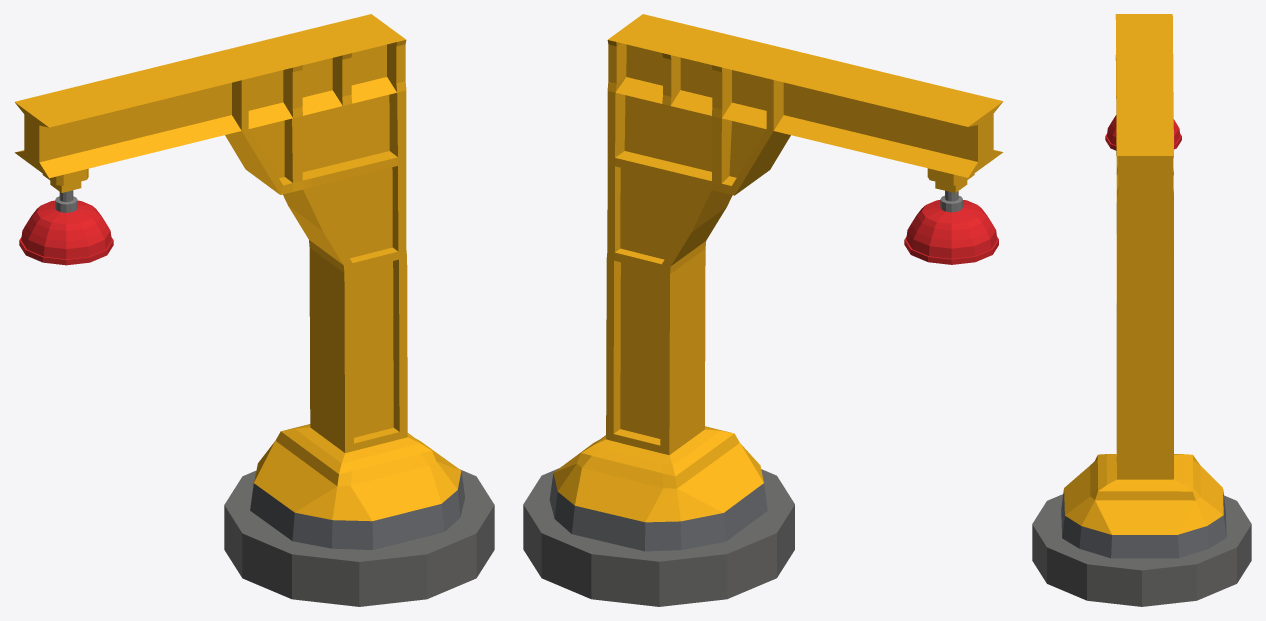
The model's file is CraneWithPlunger.fbx.
3 renders of one model, left to right at view 1: azimuth 30°, elevation 25°; view 2: azimuth 150°, elevation 25°; view 3: azimuth 270°, elevation 25°, orthographic. The views are drawn at different scales.
Parts seen in each view (by area): view 1: Cylinder, Cylinder.001, Cylinder.005; view 2: Cylinder, Cylinder.001, Cylinder.005; view 3: Cylinder, Cylinder.001, Cylinder.005.
Part boxes in pixels (x1,y1,x2,y2): Cylinder: (14,14,464,549); Cylinder.001: (224,469,494,606); Cylinder.005: (19,190,113,265); Cylinder: (549,14,1003,551); Cylinder.001: (523,468,794,606); Cylinder.005: (904,190,998,264); Cylinder: (1061,14,1226,558); Cylinder.001: (1032,494,1251,606); Cylinder.005: (1105,115,1181,150).
Size of the model in its own units: 552 by 602 by 287.
